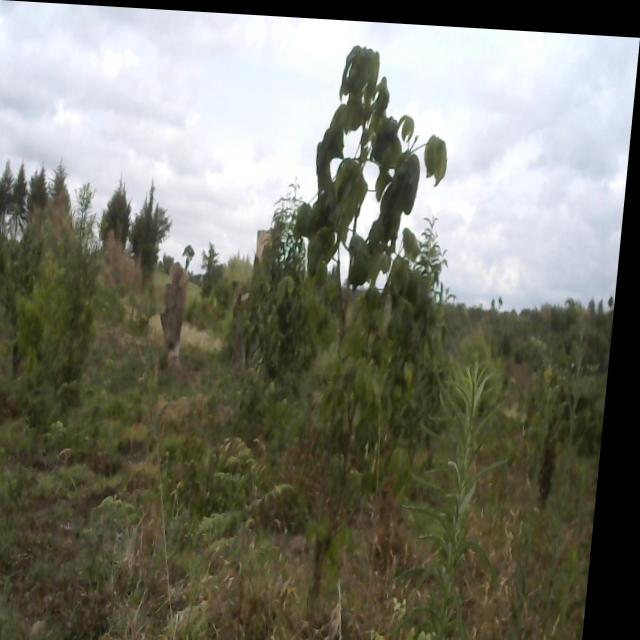Vitex keniensis: (301, 38, 444, 440)
cedrus: (134, 165, 182, 274), (97, 168, 141, 266), (8, 164, 32, 240), (28, 155, 57, 216), (50, 160, 76, 218), (0, 151, 14, 238)
